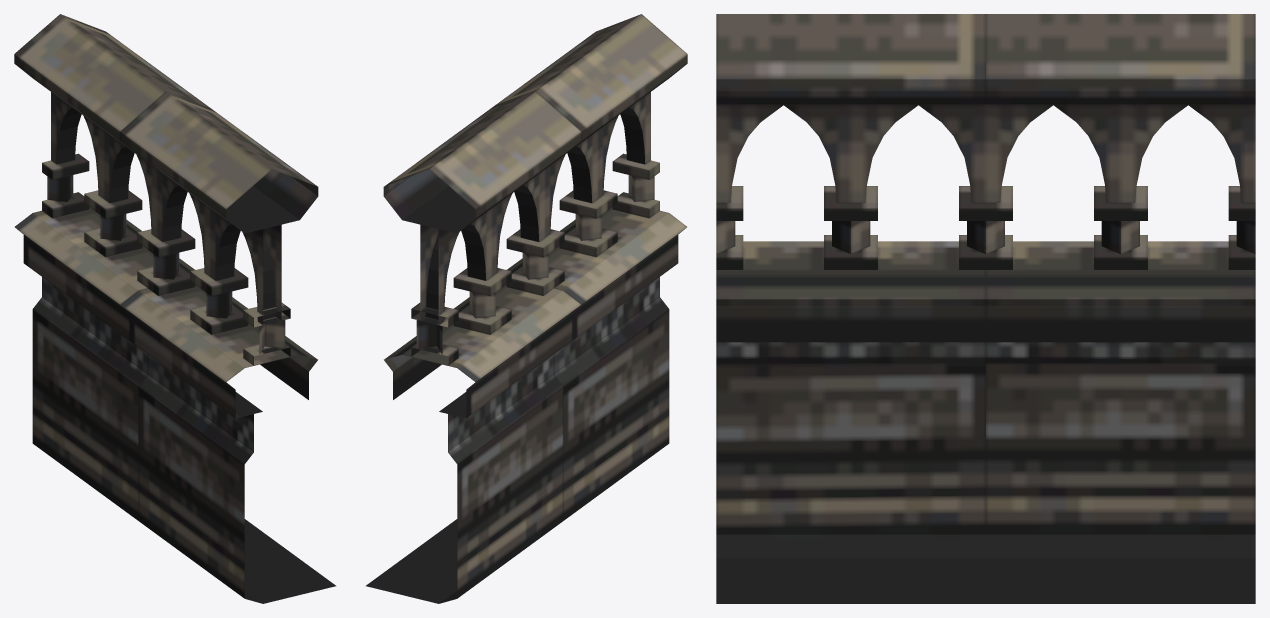
The model's file is EnvMdrMD_Castle_A_Fence_A.FBX.
3 views of the same model, side by side, from view 1: azimuth 30°, elevation 25°; view 2: azimuth 150°, elevation 25°; view 3: azimuth 270°, elevation 25° (orthographic). The views are drawn at different scales.
Parts seen in each view (by area): view 1: EnvMdrMD_Castle_A_Fence_A; view 2: EnvMdrMD_Castle_A_Fence_A; view 3: EnvMdrMD_Castle_A_Fence_A.
Part boxes in pixels (x1=…): EnvMdrMD_Castle_A_Fence_A: x1=14, y1=14, x2=335, y2=603; EnvMdrMD_Castle_A_Fence_A: x1=366, y1=14, x2=687, y2=603; EnvMdrMD_Castle_A_Fence_A: x1=716, y1=14, x2=1255, y2=603.
Bounding box in the file's own units: 60 × 225 × 200.
Materials: 1 (1 with a texture image).
